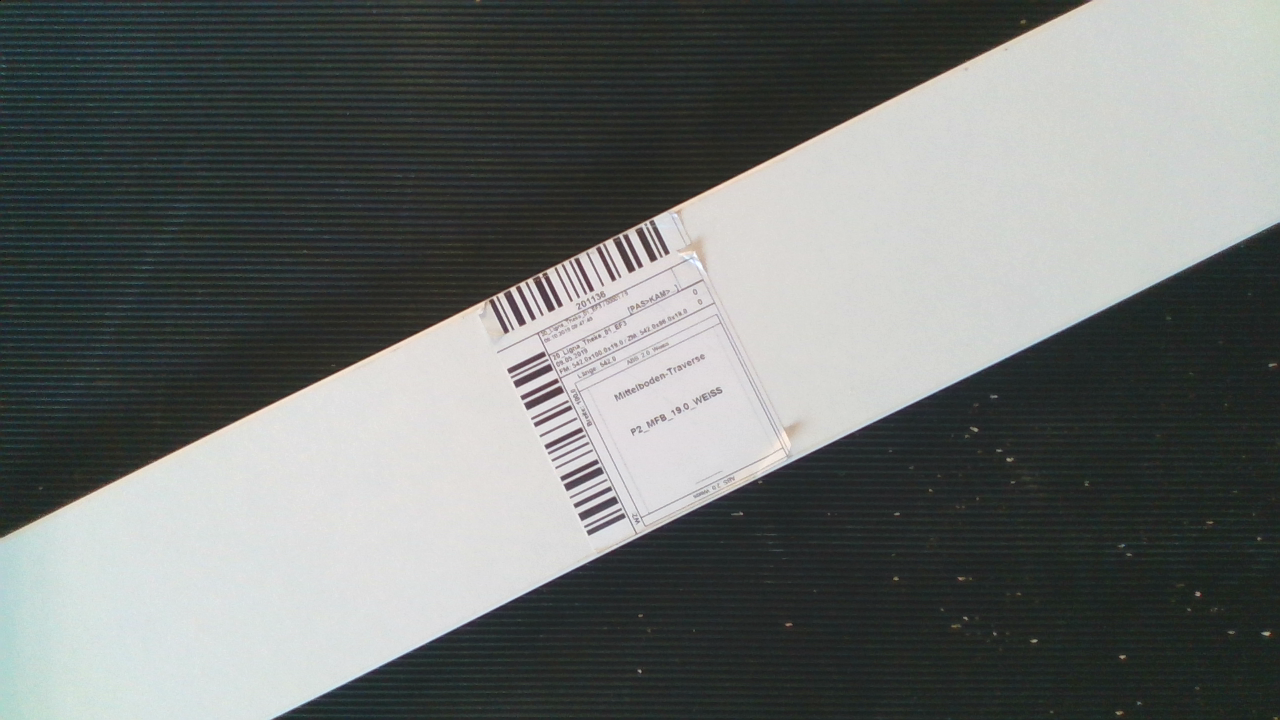barcode: (479, 190, 813, 554)
